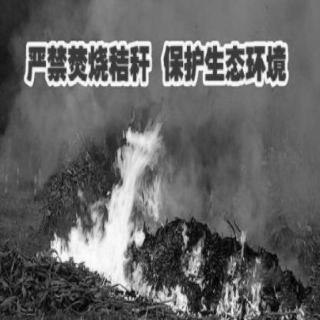Fire: (132, 220, 292, 312)
